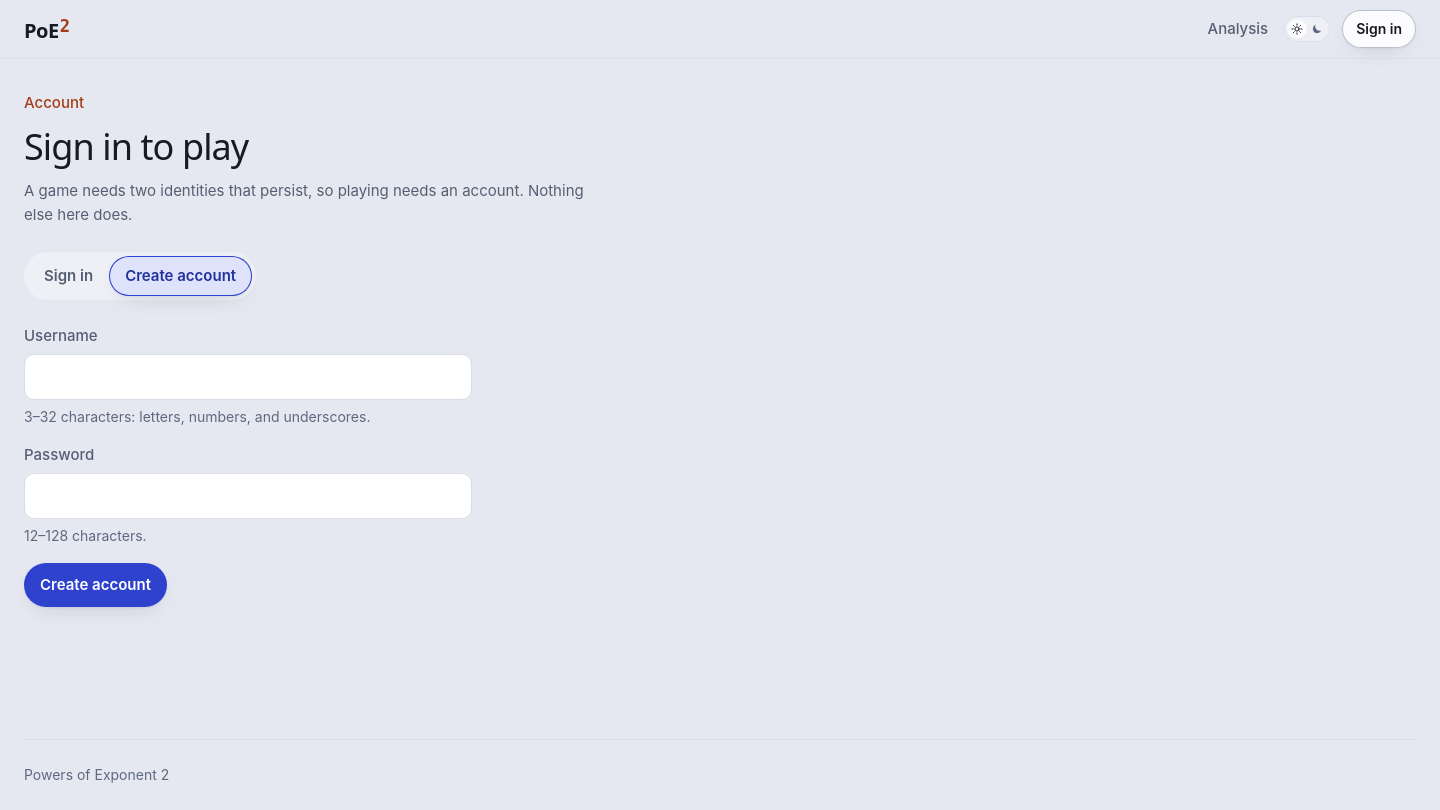
Scenario: AuthPage › names the username the server rejected as taken
Expected: the heading "Sign in to play" is shown, [24,122,248,171]
Type "Player_One" into the field labelled "Username" at (248, 377), box [24,354,472,400]
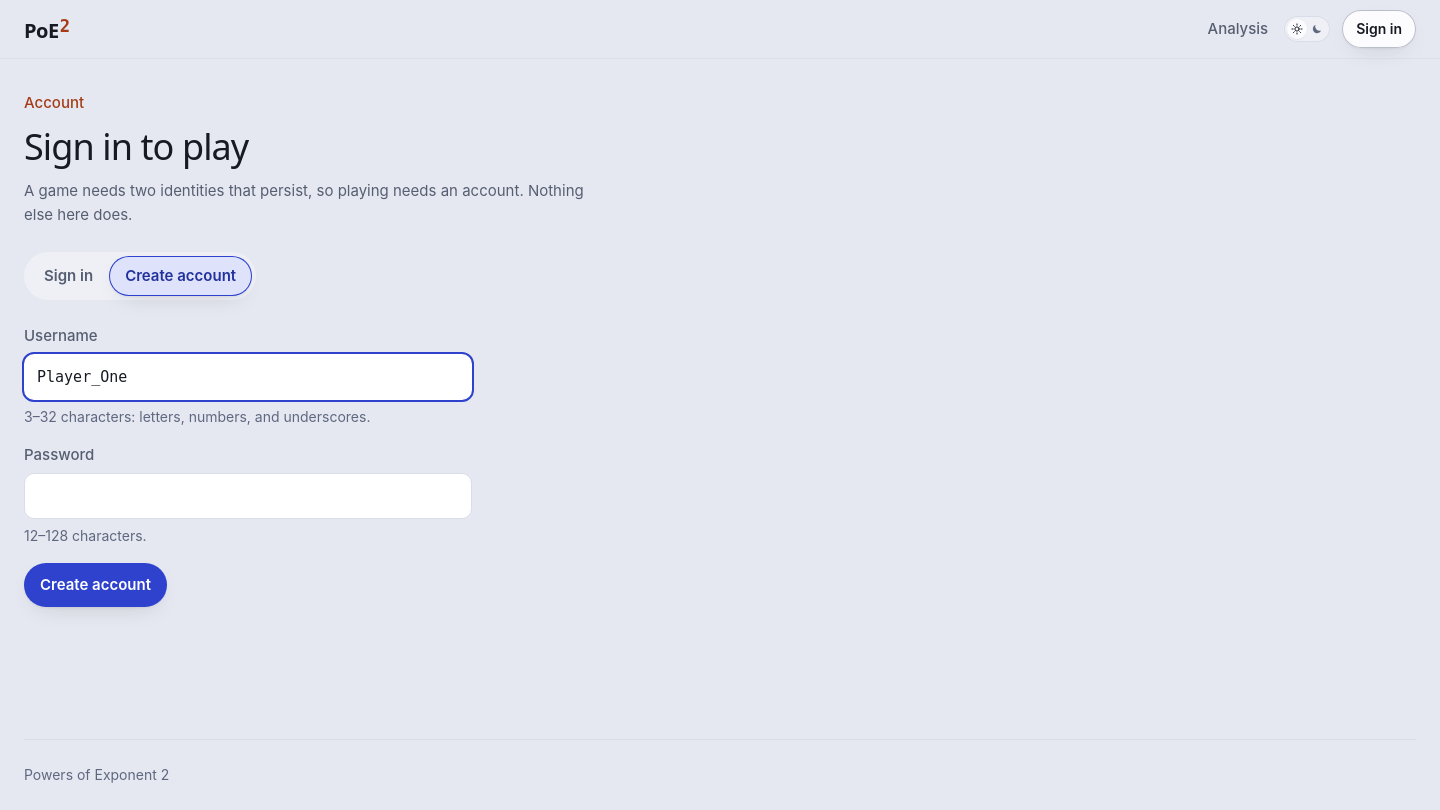
Type "correct horse battery staple" into the password field labelled "Password" at (248, 496), box [24,473,472,519]
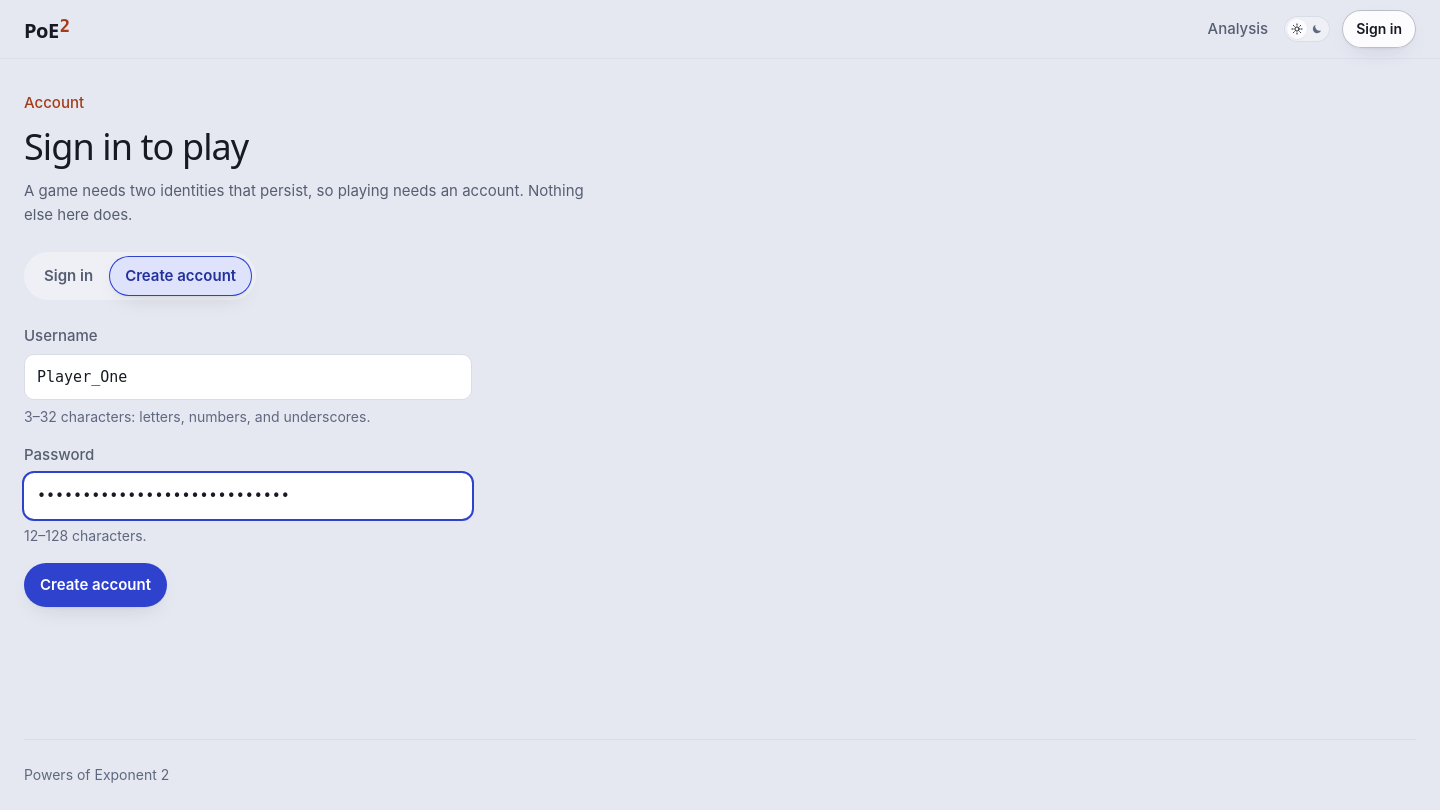
Click the button "Create account" below "12–128 characters." at (96, 585), box [24,563,167,607]
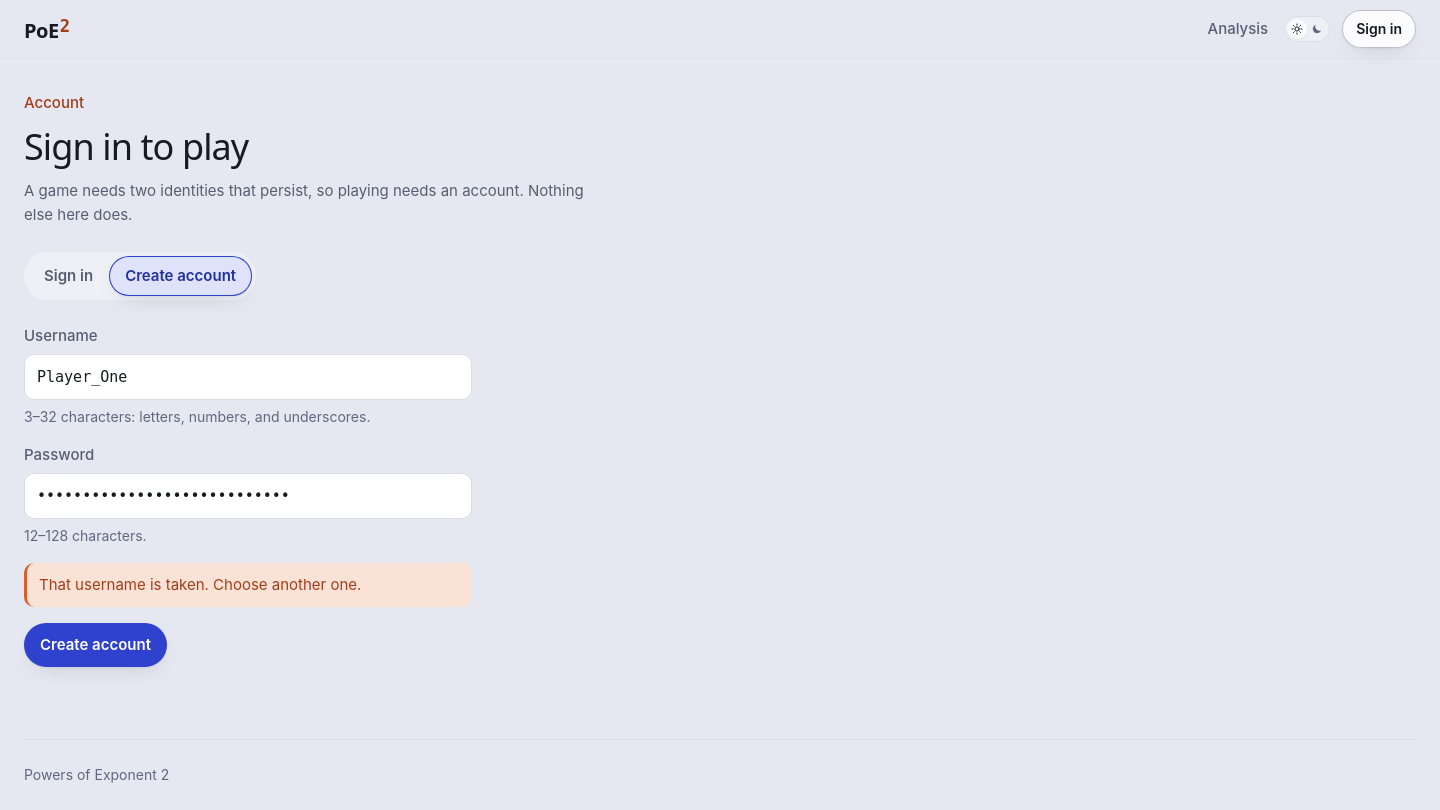
Now the message shows "That username is taken", box [39,575,361,594]
